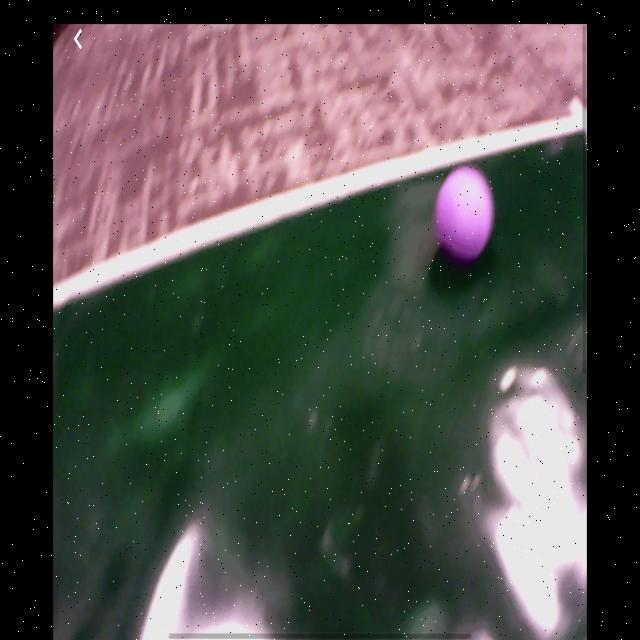ball: (434, 165, 496, 264)
